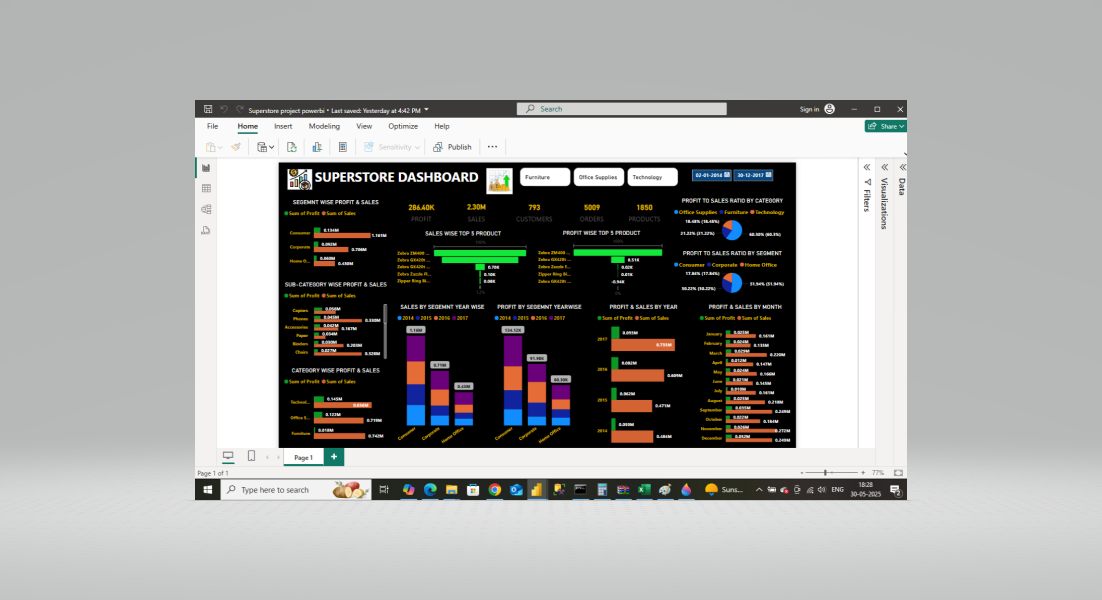

The page's visual inventory and layout, read from the dashboard file:
{"tool":"powerbi","page":{"name":"Page 1","canvas":[1280,720],"ordinal":0},"visuals":[{"type":"clusteredBarChart","title":"SUB-CATEGORY WISE PROFIT & SALES","fields":{"Y":["Sum(superstor_cleaned.Profit)","Sum(superstor_cleaned.Sales)"],"Category":["superstor_cleaned.Sub_Category"]},"box":[0,287.7,280.6,215.4],"z":0},{"type":"clusteredBarChart","title":"SEGEMNT WISE PROFIT & SALES","fields":{"Category":["superstor_cleaned.Segment"],"Y":["Sum(superstor_cleaned.Profit)","Sum(superstor_cleaned.Sales)"]},"box":[0,83.6,280.6,204.1],"z":1000},{"type":"clusteredBarChart","title":"CATEGORY WISE PROFIT & SALES","fields":{"Category":["superstor_cleaned.Category"],"Y":["Sum(superstor_cleaned.Profit)","Sum(superstor_cleaned.Sales)"]},"box":[0,503.1,280.6,216.9],"z":2000},{"type":"clusteredBarChart","title":"PROFIT & SALES BY YEAR","fields":{"Category":["superstor_cleaned.Order_Date.Variation.Date Hierarchy.Year"],"Y":["Sum(superstor_cleaned.Profit)","Sum(superstor_cleaned.Sales)"]},"box":[775.3,344.4,253.7,375.6],"z":3000},{"type":"clusteredBarChart","title":"PROFIT & SALES BY MONTH","fields":{"Category":["superstor_cleaned.Order_Date.Variation.Date Hierarchy.Month"],"Y":["Sum(superstor_cleaned.Profit)","Sum(superstor_cleaned.Sales)"]},"box":[1029,344.4,250.9,375.6],"z":4000},{"type":"lineStackedColumnComboChart","title":"SALES BY SEGEMNT YEAR WISE","fields":{"Category":["superstor_cleaned.Segment"],"Y":["superstor_cleaned.Total_Sales"],"Series":["superstor_cleaned.YEAR"]},"box":[280.6,344.4,239.5,375.6],"z":5000},{"type":"lineStackedColumnComboChart","title":"PROFIT BY SEGEMNT YEARWISE","fields":{"Category":["superstor_cleaned.Segment"],"Y":["superstor_cleaned.Total_profit"],"Series":["superstor_cleaned.YEAR"]},"box":[520,344.5,254.2,375.5],"z":6000},{"type":"funnel","title":"SALES WISE TOP 5 PRODUCT","fields":{"Category":["superstor_cleaned.Product_Name"],"Y":["superstor_cleaned.Total_Sales"]},"box":[280.6,161.6,350.1,182.8],"z":7000},{"type":"pieChart","title":"PROFIT TO SALES RATIO BY CATEGORY","fields":{"Category":["superstor_cleaned.Category"],"Y":["Divide(Sum(superstor_cleaned.Profit to Sales Ratio), ScopedEval(Sum(superstor_cleaned.Profit to Sales Ratio), []))"]},"box":[965.2,79.4,314.6,134.6],"z":8000},{"type":"pieChart","title":"PROFIT TO SALES RATIO BY SEGMENT","fields":{"Category":["superstor_cleaned.Segment"],"Y":["Divide(Sum(superstor_cleaned.Profit to Sales Ratio), ScopedEval(Sum(superstor_cleaned.Profit to Sales Ratio), []))"]},"box":[965.2,209.8,314.6,134.6],"z":9000},{"type":"funnel","title":"PROFIT WISE TOP 5 PRODUCT ","fields":{"Category":["superstor_cleaned.Product_Name"],"Y":["superstor_cleaned.Total_profit"]},"box":[630.7,161.6,334.5,182.8],"z":10000},{"type":"card","fields":{"Values":["superstor_cleaned.Total_profit"]},"box":[286.3,83.6,134.6,78],"z":11000},{"type":"card","fields":{"Values":["Count(superstor_cleaned.Product_Name)"]},"box":[841.9,83.6,127.6,78],"z":12000},{"type":"card","fields":{"Values":["superstor_cleaned.Total Customers"]},"box":[558.4,83.6,148.8,78],"z":13000},{"type":"card","fields":{"Values":["superstor_cleaned.Total orders"]},"box":[707.2,83.6,134.6,78],"z":14000},{"type":"card","fields":{"Values":["superstor_cleaned.Total_Sales"]},"box":[420.9,83.6,137.5,78],"z":15000},{"type":"slicer","fields":{"Values":["superstor_cleaned.Order_Date"]},"box":[1002.6,0,276.1,72.3],"z":16000},{"type":"textbox","box":[0,0,583.9,85],"z":17000},{"type":"advancedSlicerVisual","fields":{"Values":["superstor_cleaned.Category"]},"box":[584.5,0,418.1,80],"z":18000},{"type":"image","box":[16.8,0,71,60.6],"z":19000},{"type":"image","box":[508.4,0,76.1,74.8],"z":20000}]}

Visuals, with their boxes on the page's 1280x720 design canvas (x1, y1, x2, y2). These are canvas units, not pixel positions in the 1102x600 screenshot, which may show the page scaled, cropped or inside an application window:
"SUB-CATEGORY WISE PROFIT & SALES" clusteredBarChart: {"left": 0, "top": 288, "right": 281, "bottom": 503}
"SEGEMNT WISE PROFIT & SALES" clusteredBarChart: {"left": 0, "top": 84, "right": 281, "bottom": 288}
"CATEGORY WISE PROFIT & SALES" clusteredBarChart: {"left": 0, "top": 503, "right": 281, "bottom": 720}
"PROFIT & SALES BY YEAR" clusteredBarChart: {"left": 775, "top": 344, "right": 1029, "bottom": 720}
"PROFIT & SALES BY MONTH" clusteredBarChart: {"left": 1029, "top": 344, "right": 1280, "bottom": 720}
"SALES BY SEGEMNT YEAR WISE" lineStackedColumnComboChart: {"left": 281, "top": 344, "right": 520, "bottom": 720}
"PROFIT BY SEGEMNT YEARWISE" lineStackedColumnComboChart: {"left": 520, "top": 344, "right": 774, "bottom": 720}
"SALES WISE TOP 5 PRODUCT" funnel: {"left": 281, "top": 162, "right": 631, "bottom": 344}
"PROFIT TO SALES RATIO BY CATEGORY" pieChart: {"left": 965, "top": 79, "right": 1280, "bottom": 214}
"PROFIT TO SALES RATIO BY SEGMENT" pieChart: {"left": 965, "top": 210, "right": 1280, "bottom": 344}
"PROFIT WISE TOP 5 PRODUCT " funnel: {"left": 631, "top": 162, "right": 965, "bottom": 344}
card - superstor_cleaned.Total_profit: {"left": 286, "top": 84, "right": 421, "bottom": 162}
card - Count(superstor_cleaned.Product_Name): {"left": 842, "top": 84, "right": 970, "bottom": 162}
card - superstor_cleaned.Total Customers: {"left": 558, "top": 84, "right": 707, "bottom": 162}
card - superstor_cleaned.Total orders: {"left": 707, "top": 84, "right": 842, "bottom": 162}
card - superstor_cleaned.Total_Sales: {"left": 421, "top": 84, "right": 558, "bottom": 162}
slicer - superstor_cleaned.Order_Date: {"left": 1003, "top": 0, "right": 1279, "bottom": 72}
textbox: {"left": 0, "top": 0, "right": 584, "bottom": 85}
advancedSlicerVisual - superstor_cleaned.Category: {"left": 584, "top": 0, "right": 1003, "bottom": 80}
image: {"left": 17, "top": 0, "right": 88, "bottom": 61}
image: {"left": 508, "top": 0, "right": 584, "bottom": 75}
